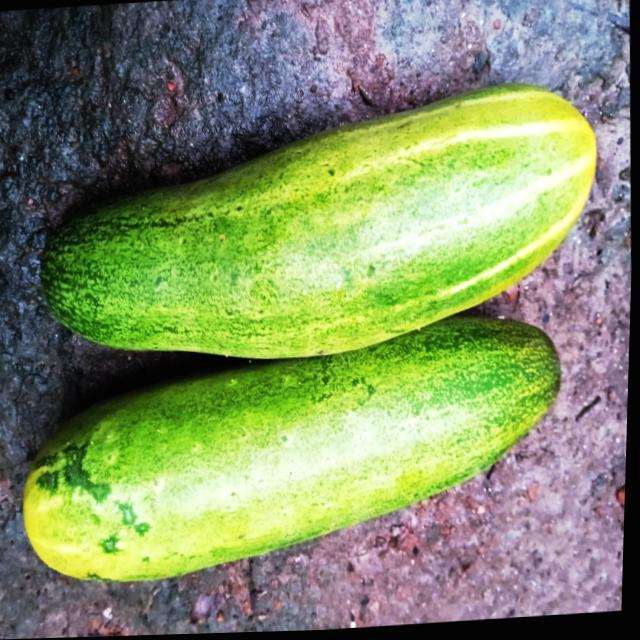Fresh-Cucumber: (34, 79, 606, 378), (16, 308, 573, 591)
